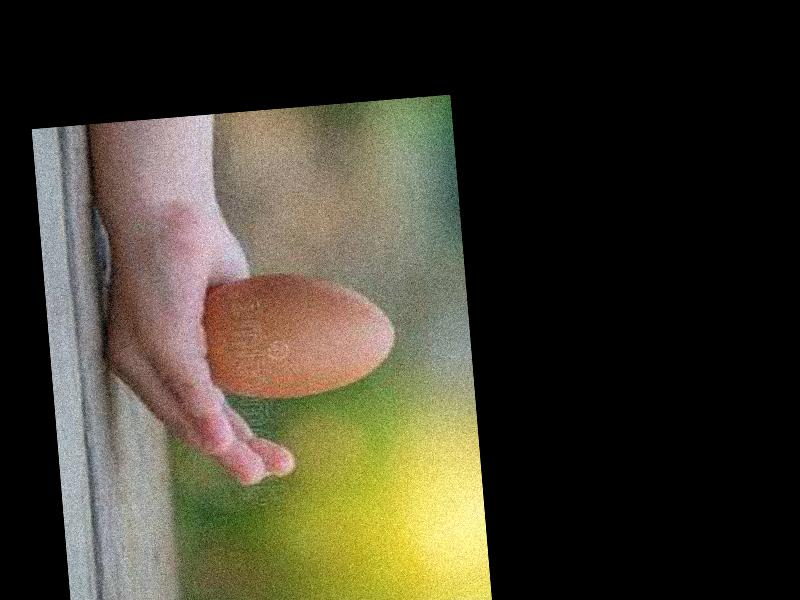Eggs: (199, 262, 398, 402)
